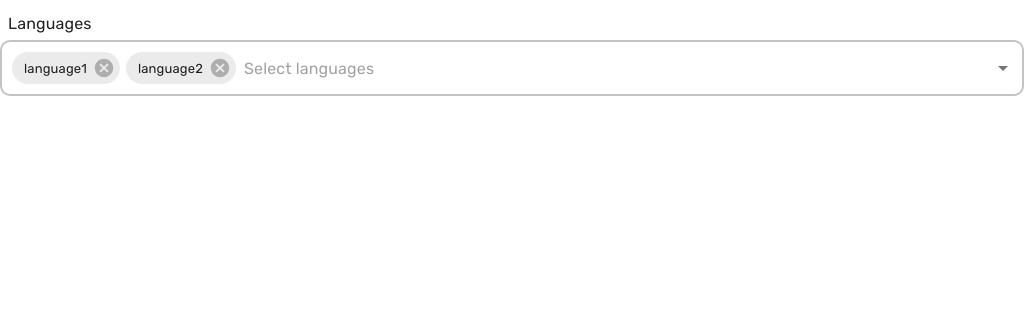
Scenario: LanguageSelection › should show selected option when value provided
Step 1. Click the button named "Open" → (1003, 68), box [989,54,1017,82]
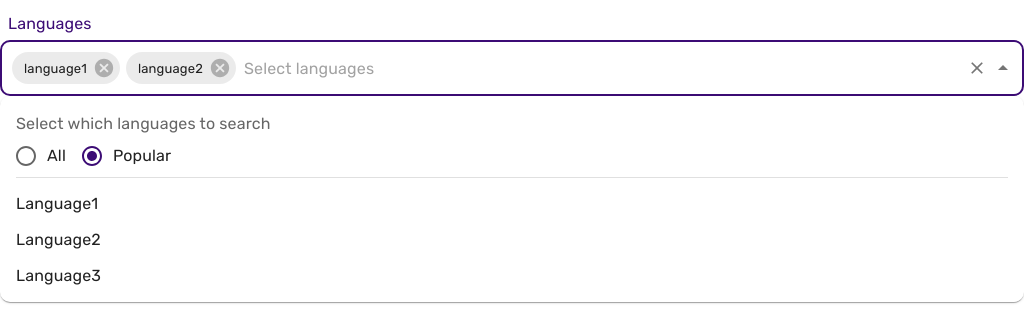
expect the option "Language1" is shown: met, box [16,194,98,213]
expect the option "Language2" is shown: met, box [16,230,101,249]
